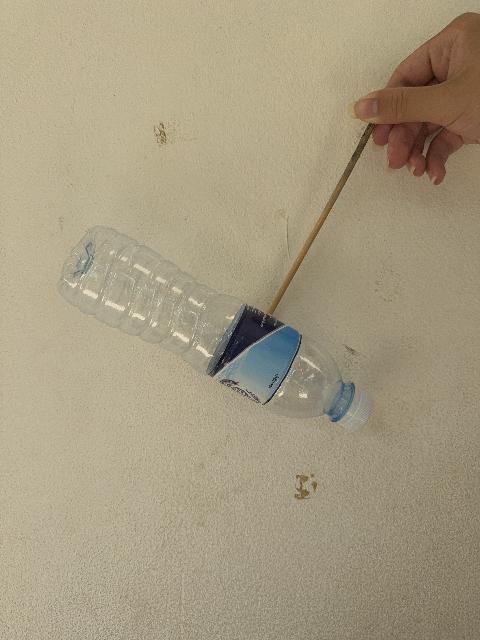bottle: (58, 227, 373, 429)
